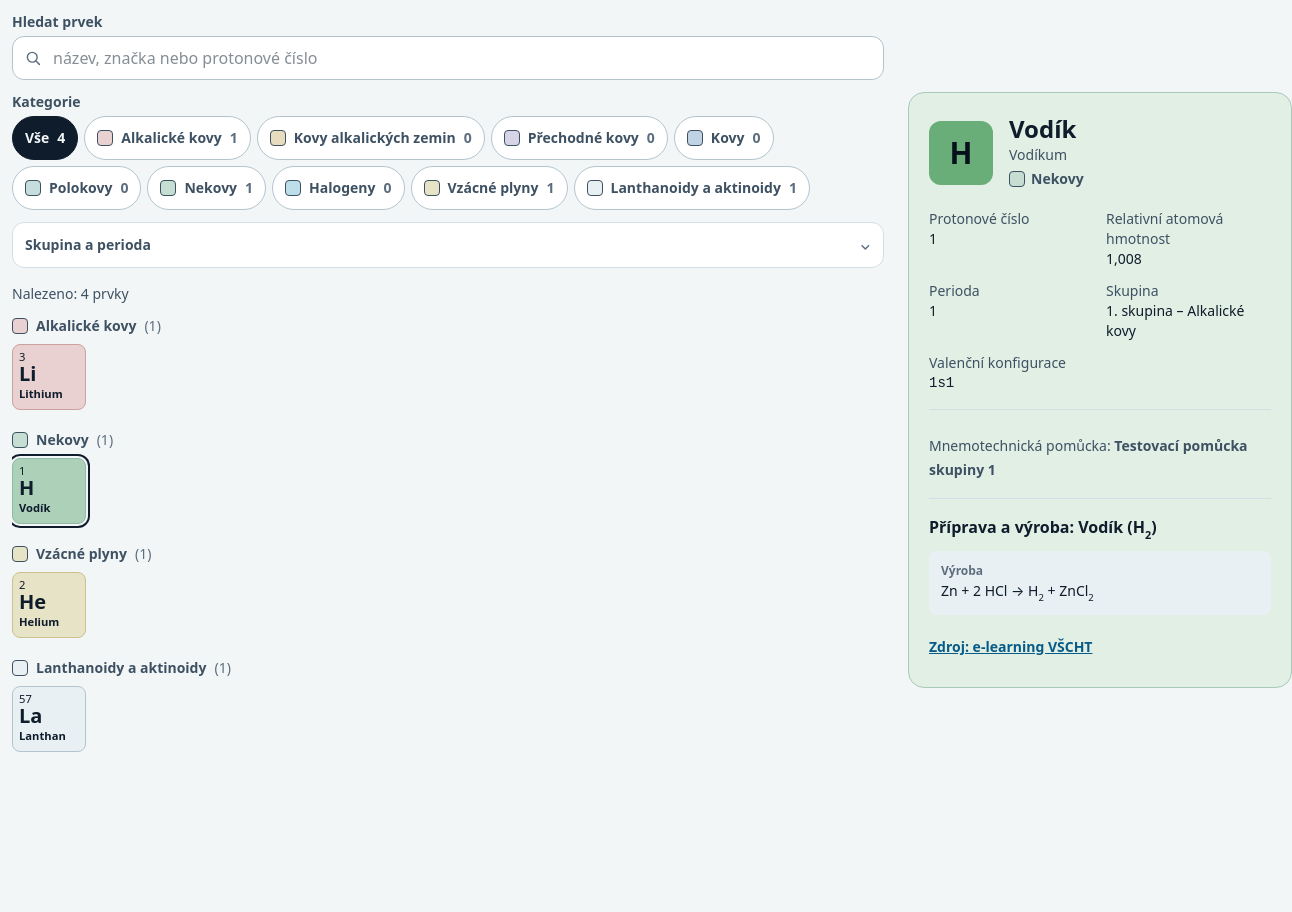
Test: ElementBrowser › finds an element by name without diacritics and opens it
Type "lith" into the search field labelled "Hledat prvek" at (448, 58), box [12,36,884,80]
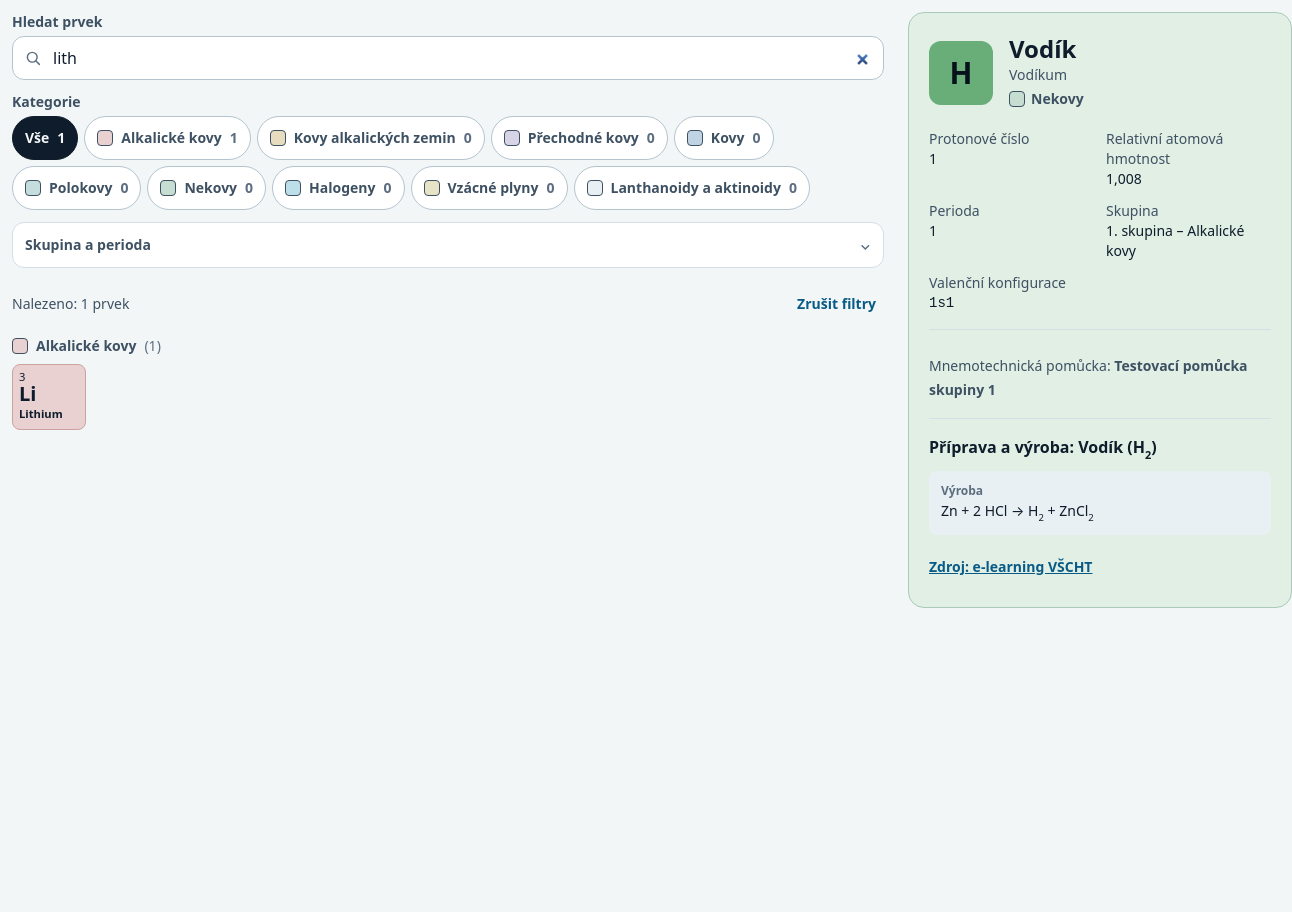
Expected: the text "Nalezeno: 1 prvek" is shown, [12,294,129,314]
Click the button "3 Li Lithium" at (49, 397), box [12,364,86,430]
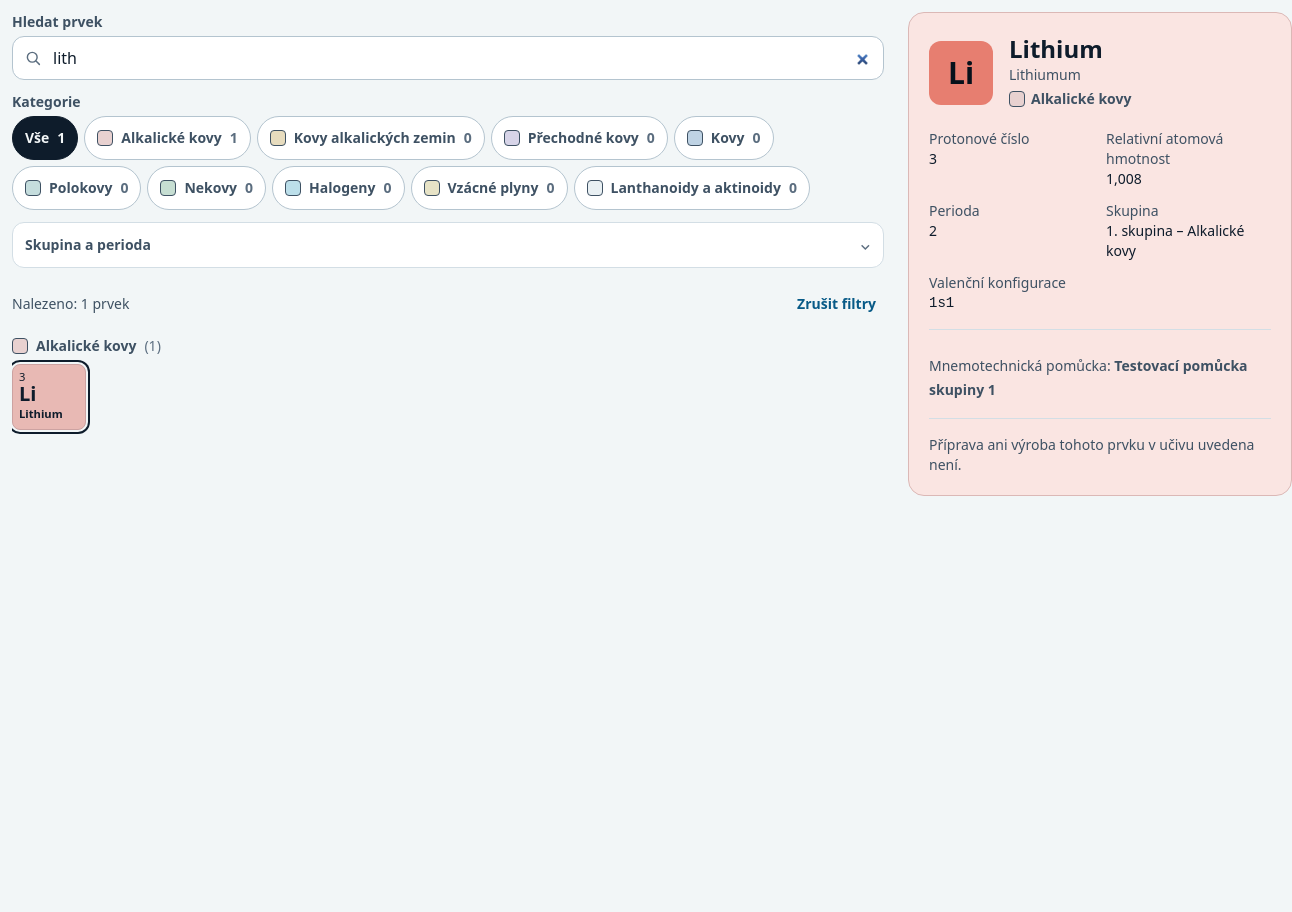
Expected: the heading "Lithium" is shown, [1009,33,1131,65]
Expected: the text "Příprava ani výroba tohoto prvku v učivu uvedena není." is shown, [929,435,1271,475]
